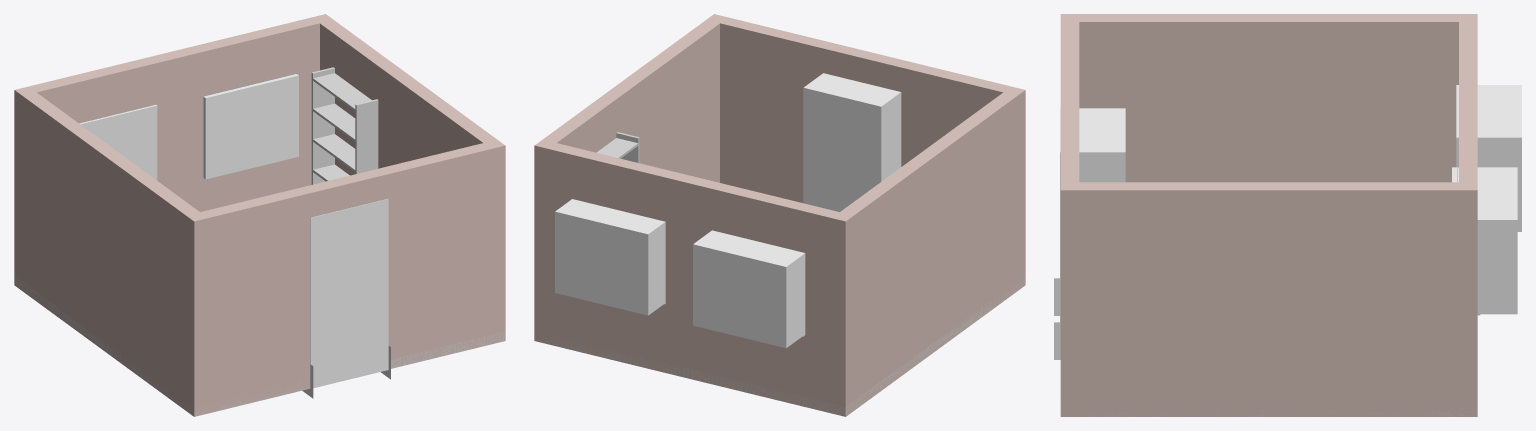
Rendered from Room.fbx.
3 renders of one model, left to right at view 1: azimuth 30°, elevation 25°; view 2: azimuth 150°, elevation 25°; view 3: azimuth 270°, elevation 25°, orthographic. The views are drawn at different scales.
Visible parts, largest first — view 1: Room, CTRL_Hole, CTRL_Hole.002, Shelves1, CTRL_Hole.001, Baseboard; view 2: Room, CTRL_Hole, CTRL_Hole.001, CTRL_Hole.002, Baseboard, Shelves1; view 3: Room, CTRL_Hole.002, CTRL_Hole.001, CTRL_Hole, CTRL_Baseboard.
Part boxes in pixels (left/top/right/bottom): Room: left=14, top=14, right=505, bottom=416; CTRL_Hole: left=310, top=199, right=388, bottom=388; CTRL_Hole.002: left=203, top=74, right=298, bottom=179; Shelves1: left=311, top=67, right=378, bottom=184; CTRL_Hole.001: left=79, top=105, right=157, bottom=180; Baseboard: left=14, top=276, right=505, bottom=416; Room: left=534, top=14, right=1025, bottom=416; CTRL_Hole: left=803, top=73, right=901, bottom=211; CTRL_Hole.001: left=693, top=230, right=805, bottom=348; CTRL_Hole.002: left=555, top=199, right=665, bottom=315; Baseboard: left=536, top=277, right=1025, bottom=416; Shelves1: left=596, top=132, right=639, bottom=163; Room: left=1060, top=14, right=1477, bottom=416; CTRL_Hole.002: left=1452, top=167, right=1517, bottom=314; CTRL_Hole.001: left=1456, top=85, right=1521, bottom=231; CTRL_Hole: left=1060, top=108, right=1125, bottom=350; CTRL_Baseboard: left=1054, top=278, right=1060, bottom=359.
Bounding box in the file's own units: 400 × 250 × 449.
